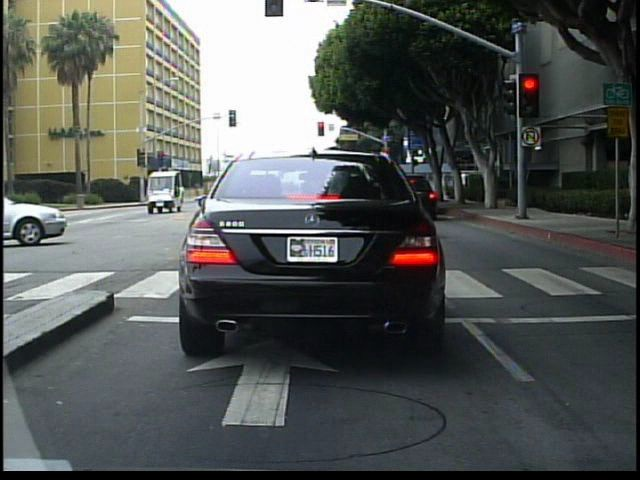person: (320, 145, 364, 283), (289, 143, 325, 275)
